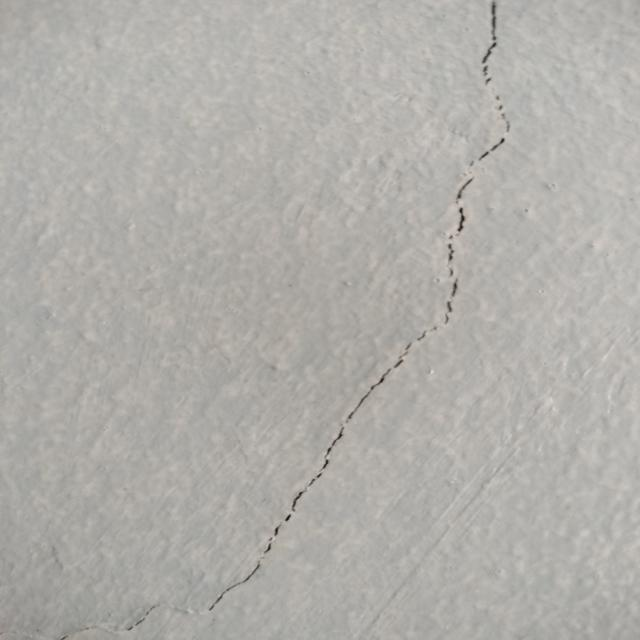Crack: (125, 0, 516, 632)
